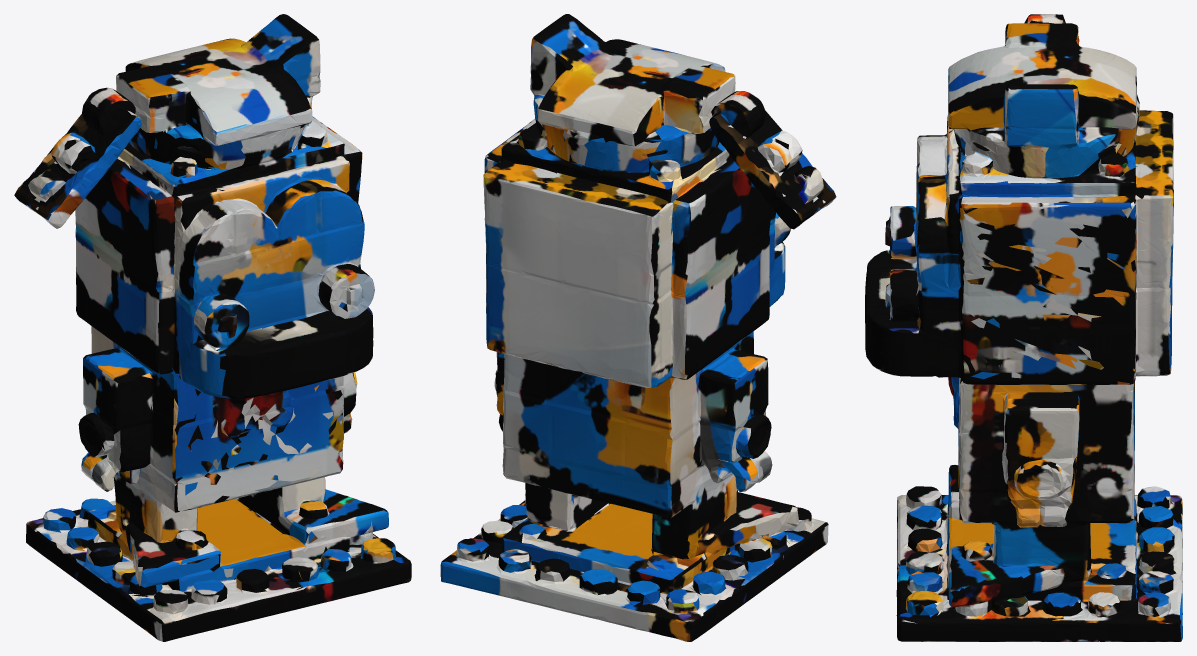
File: 15-hunyuan-donald.glb
3 views of the same model, side by side, from view 1: azimuth 30°, elevation 25°; view 2: azimuth 150°, elevation 25°; view 3: azimuth 270°, elevation 25° (orthographic). The views are drawn at different scales.
Visible parts, largest first — view 1: geometry_0; view 2: geometry_0; view 3: geometry_0.
Part boxes in pixels (x1,y1,x2,y2): geometry_0: [14, 14, 411, 641]; geometry_0: [440, 14, 836, 641]; geometry_0: [865, 14, 1182, 641].
Size of the model in its own units: 1.27 by 1.99 by 1.07.
Materials: 1 (1 with a texture image).
